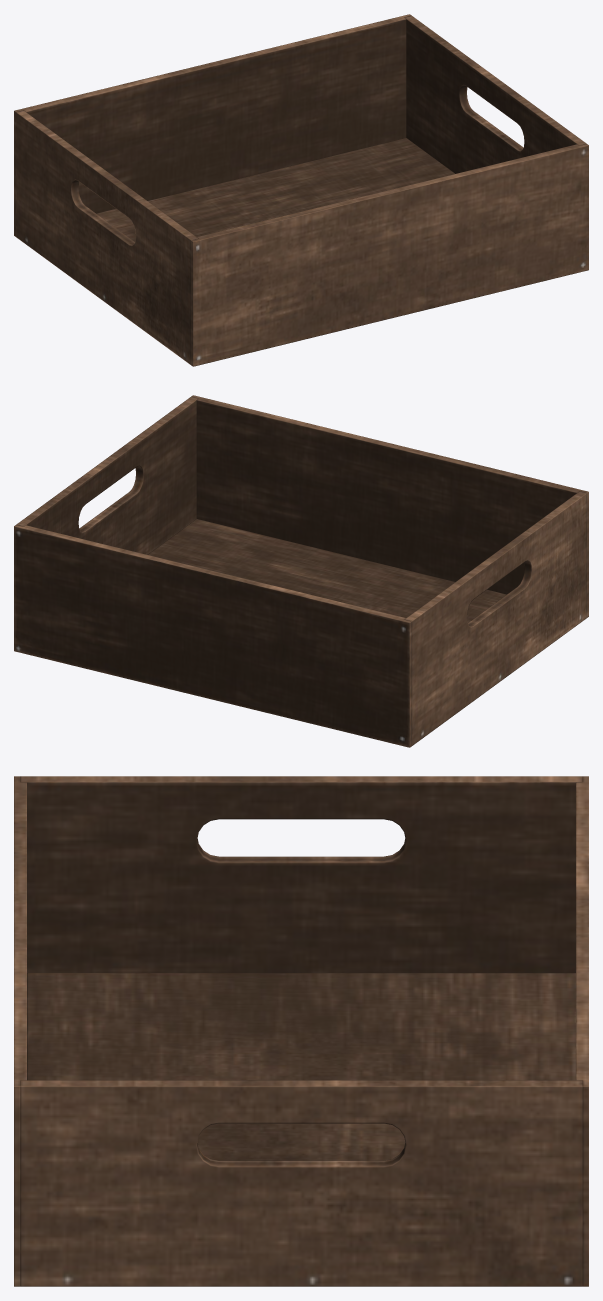
3 views of the same model, one above another, from view 1: azimuth 30°, elevation 25°; view 2: azimuth 150°, elevation 25°; view 3: azimuth 270°, elevation 25° (orthographic). The views are drawn at different scales.
Parts seen in each view (by area): view 1: wooden-crate-1; view 2: wooden-crate-1; view 3: wooden-crate-1.
Boxes of the visible parts, <box> form: wooden-crate-1: <box>14,14,588,366</box>; wooden-crate-1: <box>14,395,588,747</box>; wooden-crate-1: <box>14,776,588,1286</box>.
Size of the model in its own units: 0.2065 by 0.0623 by 0.1618.
1 material, 1 textured.
